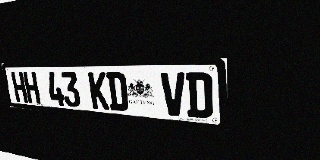3: (61, 72, 81, 107)
4: (46, 72, 65, 106)
D: (186, 72, 213, 119), (106, 72, 129, 112)
H: (23, 72, 41, 104), (11, 72, 28, 103)
K: (88, 72, 110, 110)
V: (160, 72, 186, 117)
